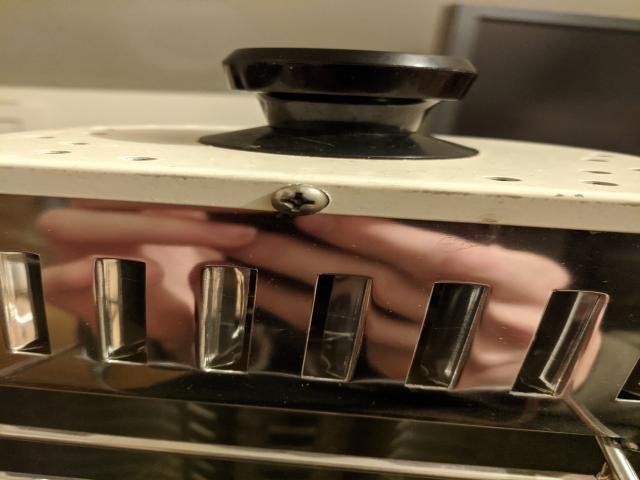CRS: (273, 184, 329, 216)
